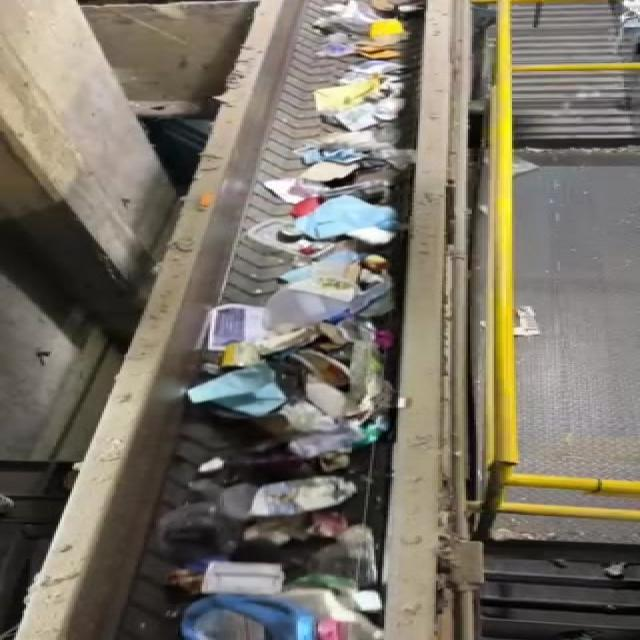hdpe: (163, 604, 361, 640)
paper: (333, 332, 408, 436), (180, 365, 304, 419), (252, 476, 364, 515), (325, 524, 388, 586)
pp: (163, 496, 237, 552)
ps: (175, 558, 298, 594)
